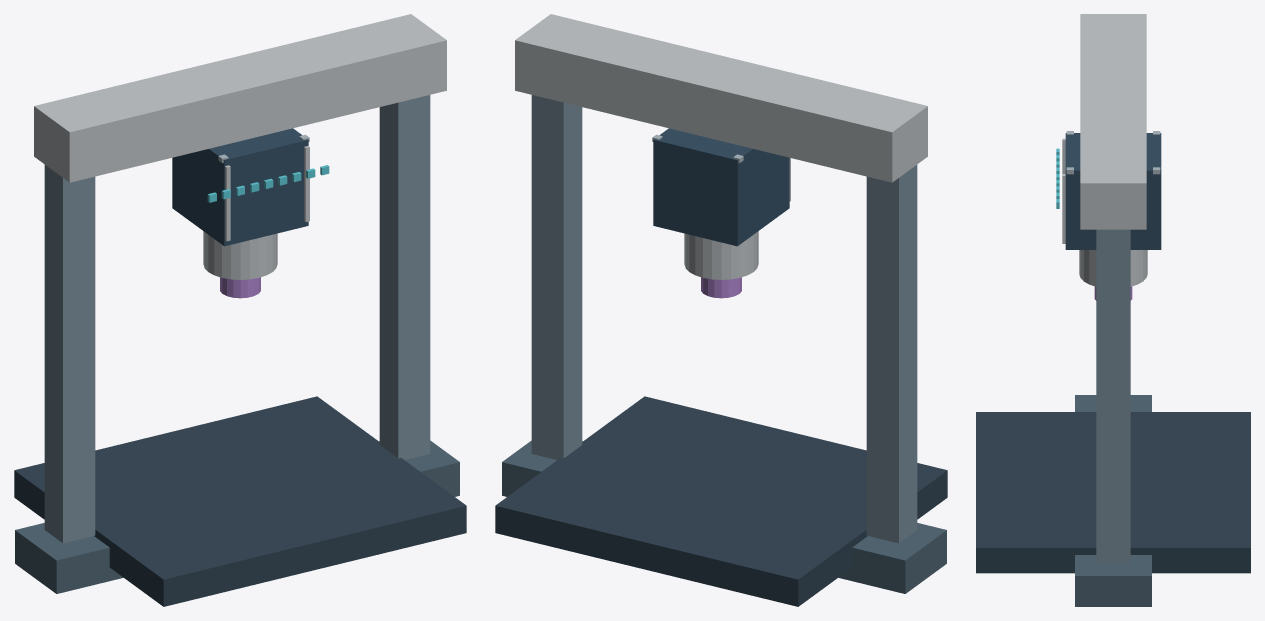
Rendered from 48_L74_CriticalDimensionInspectionScanner.glb.
The picture shows the model from 3 angles, left to right: view 1: azimuth 30°, elevation 25°; view 2: azimuth 150°, elevation 25°; view 3: azimuth 270°, elevation 25°; orthographic projection. The views are drawn at different scales.
Visible parts, largest first — view 1: CriticalDimensionInspectionScanner_Node_0023, CriticalDimensionInspectionScanner_Node_0004, CriticalDimensionInspectionScanner_Node_0000, CriticalDimensionInspectionScanner_Node_0002, CriticalDimensionInspectionScanner_Node_0005, CriticalDimensionInspectionScanner_Node_0001, CriticalDimensionInspectionScanner_Node_0012, CriticalDimensionInspectionScanner_Node_0003, CriticalDimensionInspectionScanner_Node_0013; view 2: CriticalDimensionInspectionScanner_Node_0023, CriticalDimensionInspectionScanner_Node_0004, CriticalDimensionInspectionScanner_Node_0000, CriticalDimensionInspectionScanner_Node_0002, CriticalDimensionInspectionScanner_Node_0005, CriticalDimensionInspectionScanner_Node_0001, CriticalDimensionInspectionScanner_Node_0012, CriticalDimensionInspectionScanner_Node_0003, CriticalDimensionInspectionScanner_Node_0013; view 3: CriticalDimensionInspectionScanner_Node_0023, CriticalDimensionInspectionScanner_Node_0004, CriticalDimensionInspectionScanner_Node_0002, CriticalDimensionInspectionScanner_Node_0005, CriticalDimensionInspectionScanner_Node_0003, CriticalDimensionInspectionScanner_Node_0012, CriticalDimensionInspectionScanner_Node_0001.
Boxes of the visible parts, <box> form: CriticalDimensionInspectionScanner_Node_0023: <box>14,396,466,606</box>; CriticalDimensionInspectionScanner_Node_0004: <box>34,14,446,182</box>; CriticalDimensionInspectionScanner_Node_0000: <box>44,164,95,543</box>; CriticalDimensionInspectionScanner_Node_0002: <box>379,95,430,459</box>; CriticalDimensionInspectionScanner_Node_0005: <box>172,128,308,246</box>; CriticalDimensionInspectionScanner_Node_0001: <box>15,523,123,593</box>; CriticalDimensionInspectionScanner_Node_0012: <box>203,231,277,279</box>; CriticalDimensionInspectionScanner_Node_0003: <box>379,440,459,496</box>; CriticalDimensionInspectionScanner_Node_0013: <box>220,277,260,298</box>; CriticalDimensionInspectionScanner_Node_0023: <box>495,396,947,606</box>; CriticalDimensionInspectionScanner_Node_0004: <box>515,14,927,182</box>; CriticalDimensionInspectionScanner_Node_0000: <box>866,164,917,543</box>; CriticalDimensionInspectionScanner_Node_0002: <box>531,95,582,459</box>; CriticalDimensionInspectionScanner_Node_0005: <box>653,128,789,246</box>; CriticalDimensionInspectionScanner_Node_0001: <box>838,523,946,593</box>; CriticalDimensionInspectionScanner_Node_0012: <box>684,231,758,279</box>; CriticalDimensionInspectionScanner_Node_0003: <box>502,440,582,496</box>; CriticalDimensionInspectionScanner_Node_0013: <box>701,277,741,298</box>; CriticalDimensionInspectionScanner_Node_0023: <box>976,412,1250,573</box>; CriticalDimensionInspectionScanner_Node_0004: <box>1080,14,1146,229</box>; CriticalDimensionInspectionScanner_Node_0002: <box>1096,229,1130,563</box>; CriticalDimensionInspectionScanner_Node_0005: <box>1065,133,1161,249</box>; CriticalDimensionInspectionScanner_Node_0003: <box>1075,555,1151,606</box>; CriticalDimensionInspectionScanner_Node_0012: <box>1079,250,1147,286</box>; CriticalDimensionInspectionScanner_Node_0001: <box>1075,395,1151,411</box>.
Bounding box in the file's own units: 2.01 × 2.17 × 1.29.
